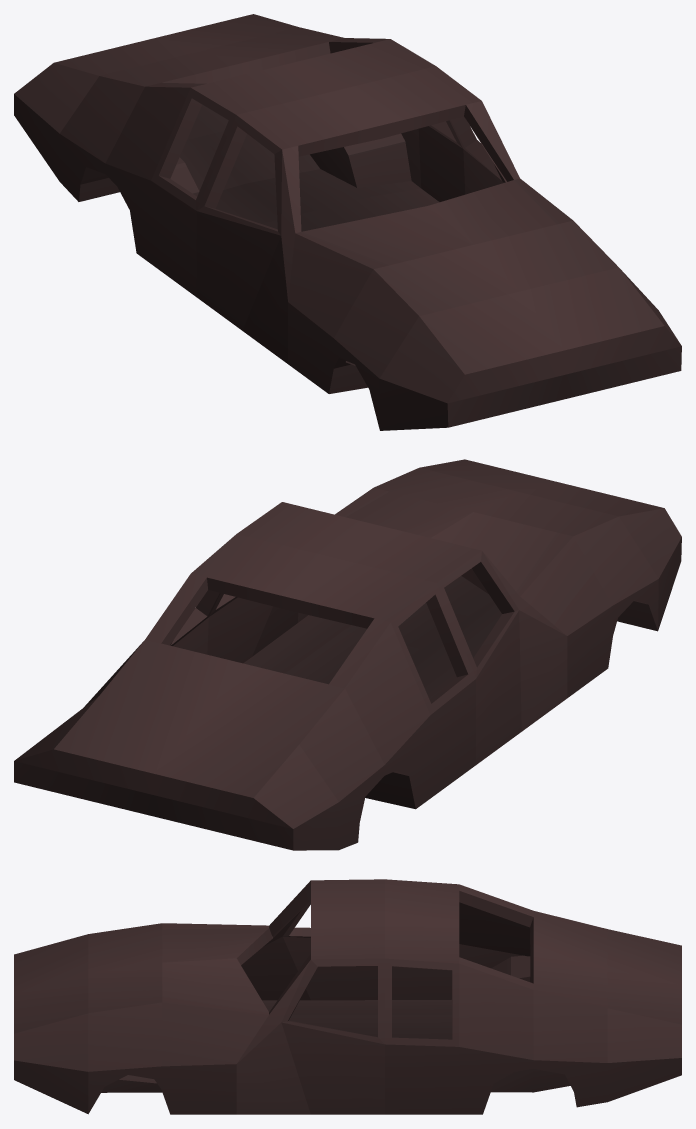
Rendered from RustedCar2.fbx.
3 views of the same model, one above another, from view 1: azimuth 30°, elevation 25°; view 2: azimuth 150°, elevation 25°; view 3: azimuth 270°, elevation 25° (orthographic). The views are drawn at different scales.
Parts seen in each view (by area): view 1: Cube; view 2: Cube; view 3: Cube.
Boxes of the visible parts, left/top/right/bottom form: Cube: left=14, top=14, right=681, bottom=430; Cube: left=14, top=459, right=681, bottom=850; Cube: left=14, top=879, right=681, bottom=1114.
Bounding box in the file's own units: 217 × 128 × 554.
